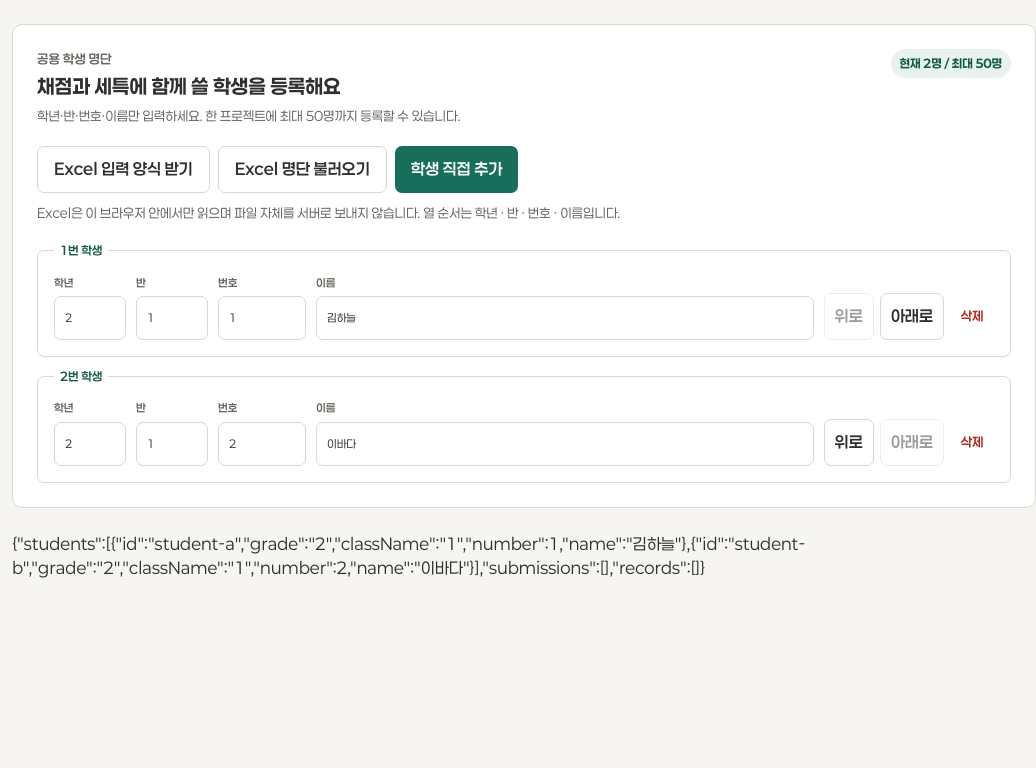
Test: Given two valid students When a direct 번호 edit duplicates the academic key Then the project roster remains byte-for-byte unchanged
This screenshot has width=1036, height=768.
Clear the 2nd number field labelled "번호" at [262, 444], box [218,422,306,466]
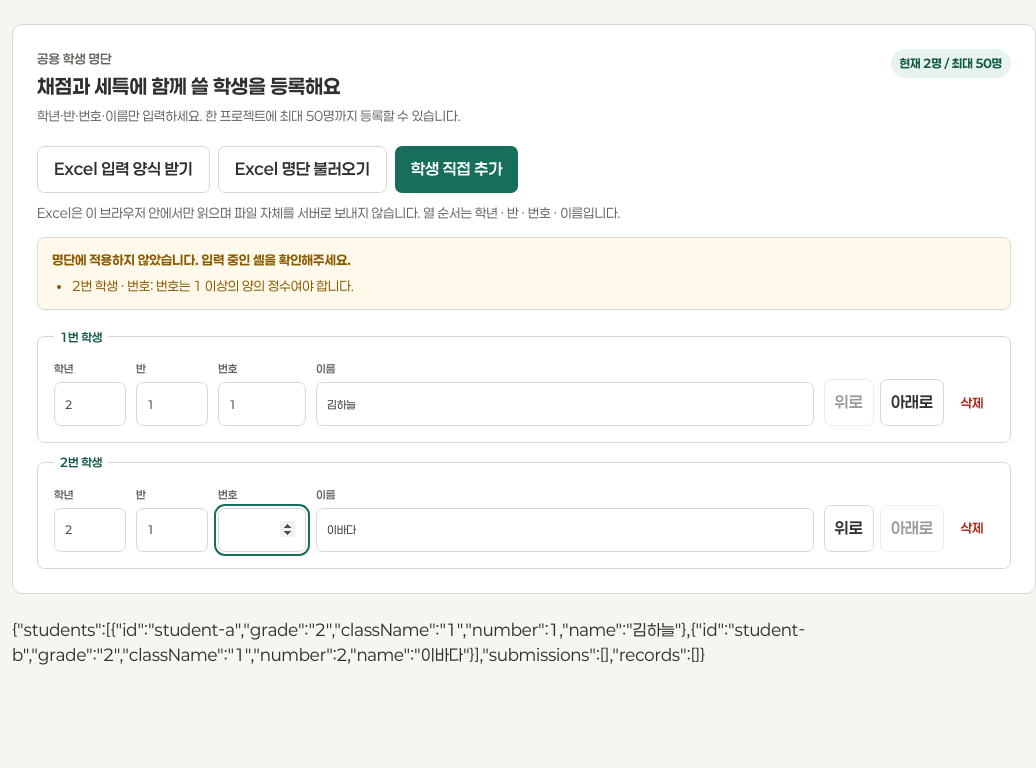
Type "1" into the 2nd number field labelled "번호" at [262, 530], box [218,508,306,552]
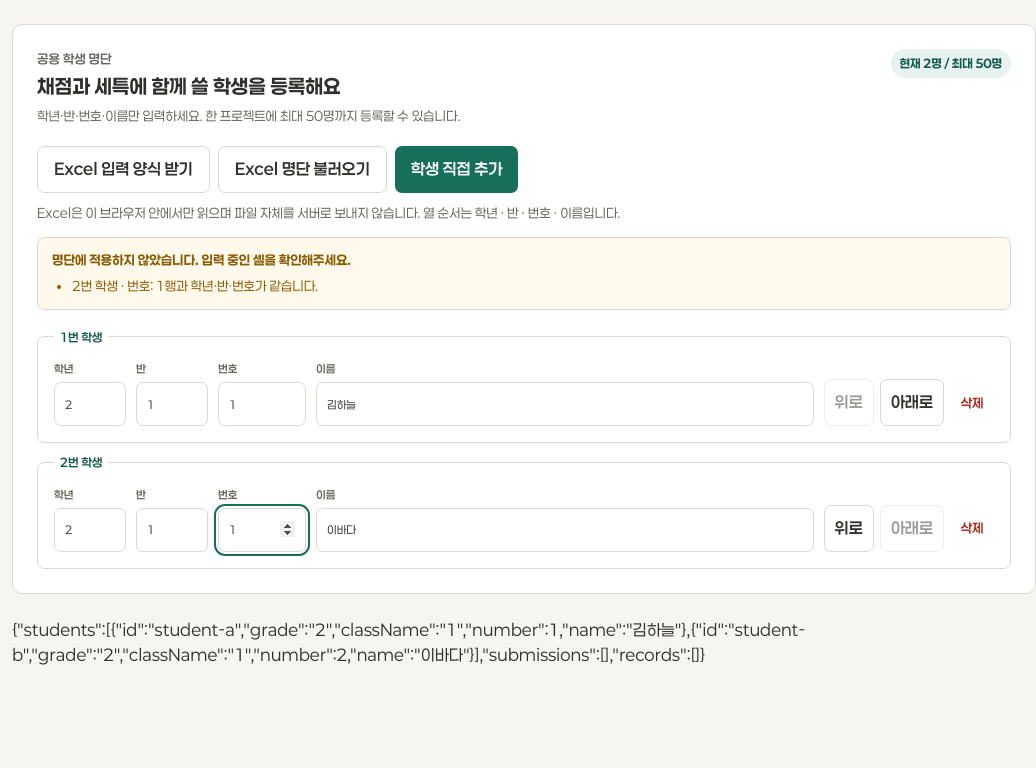
Check: the text "명단에 적용하지 않았습니다. 입력 중인 셀을 확인해주세요." shows "2번 학생 · 번호", box [37,237,1011,310]
Check: the text "명단에 적용하지 않았습니다. 입력 중인 셀을 확인해주세요." shows "1행과 학년·반·번호가 같습니다", box [156,278,318,294]
